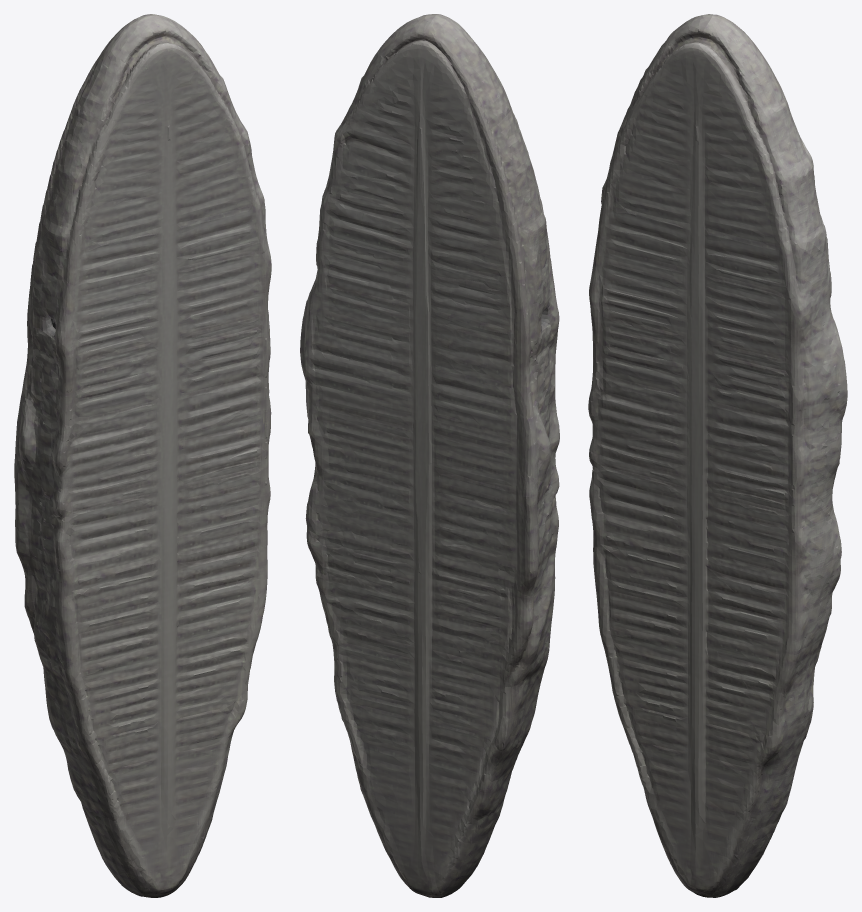
The picture shows the model from 3 angles, left to right: view 1: azimuth 30°, elevation 25°; view 2: azimuth 150°, elevation 25°; view 3: azimuth 330°, elevation 25°; orthographic projection.
Parts seen in each view (by area): view 1: world; view 2: world; view 3: world.
Part boxes in pixels (x1,y1,x2,y2): world: (14,14,271,897); world: (300,14,559,897); world: (588,14,847,897).
Size of the model in its own units: 0.2938 by 1 by 0.0842.
1 material, 1 textured.
